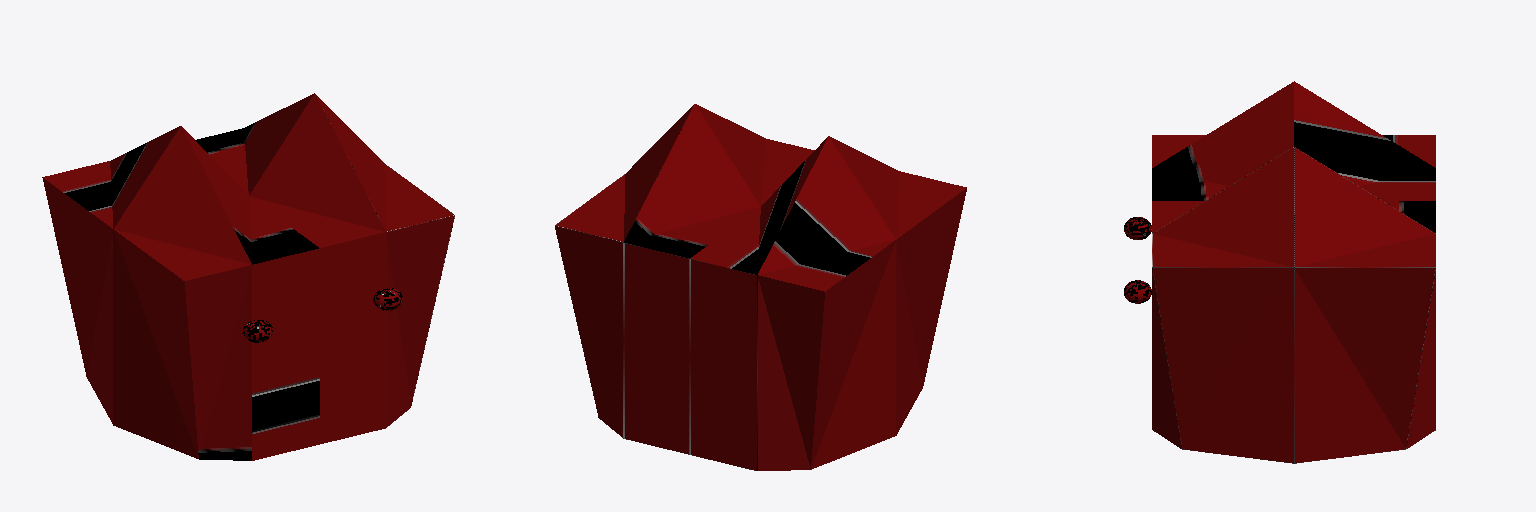
3 renders of one model, left to right at view 1: azimuth 30°, elevation 25°; view 2: azimuth 150°, elevation 25°; view 3: azimuth 270°, elevation 25°, orthographic.
Visible parts, largest first — view 1: 球; view 2: 球; view 3: 球.
Boxes of the visible parts, <box> form: 球: <box>42,93,454,460</box>; 球: <box>555,104,966,470</box>; 球: <box>1124,81,1435,463</box>.
Size of the model in its own units: 1 by 1 by 1.
Materials: 1 (1 with a texture image).